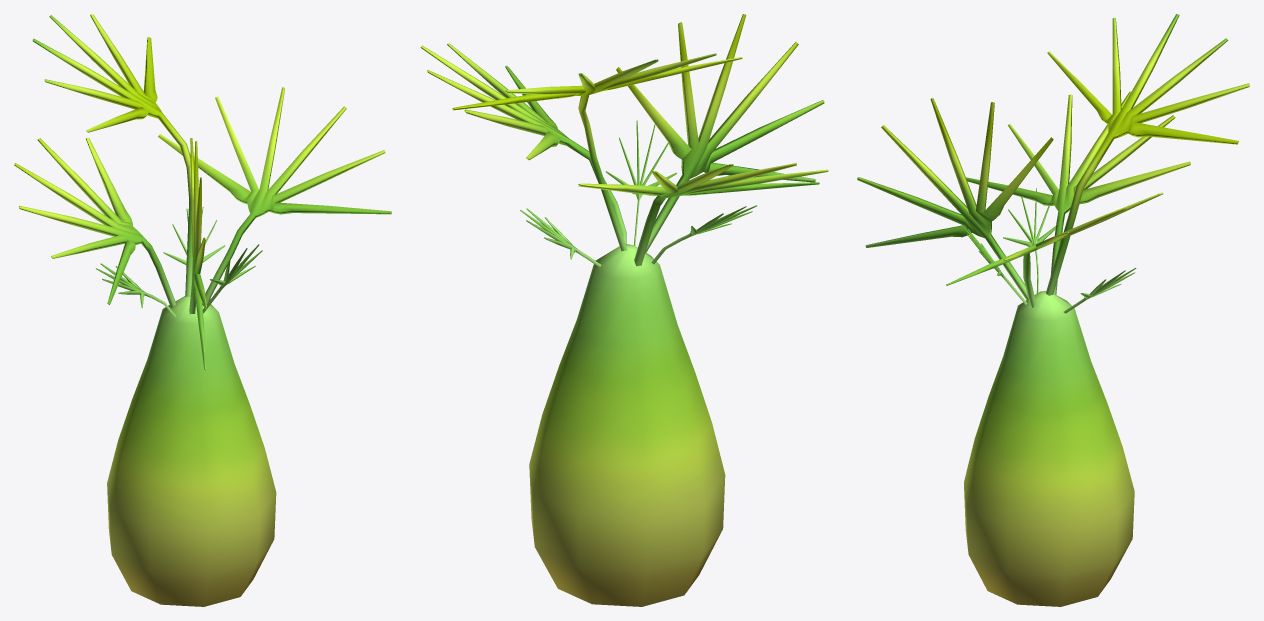
File: Palm_frawn2.fbx
3 views of the same model, side by side, from view 1: azimuth 30°, elevation 25°; view 2: azimuth 150°, elevation 25°; view 3: azimuth 270°, elevation 25° (orthographic). The views are drawn at different scales.
Parts seen in each view (by area): view 1: Tree_Med; view 2: Tree_Med; view 3: Tree_Med.
Boxes of the visible parts, <box> form: Tree_Med: <box>14,14,391,606</box>; Tree_Med: <box>420,14,828,606</box>; Tree_Med: <box>857,14,1249,606</box>.
Bounding box in the file's own units: 0.6777 × 1 × 0.6839.
